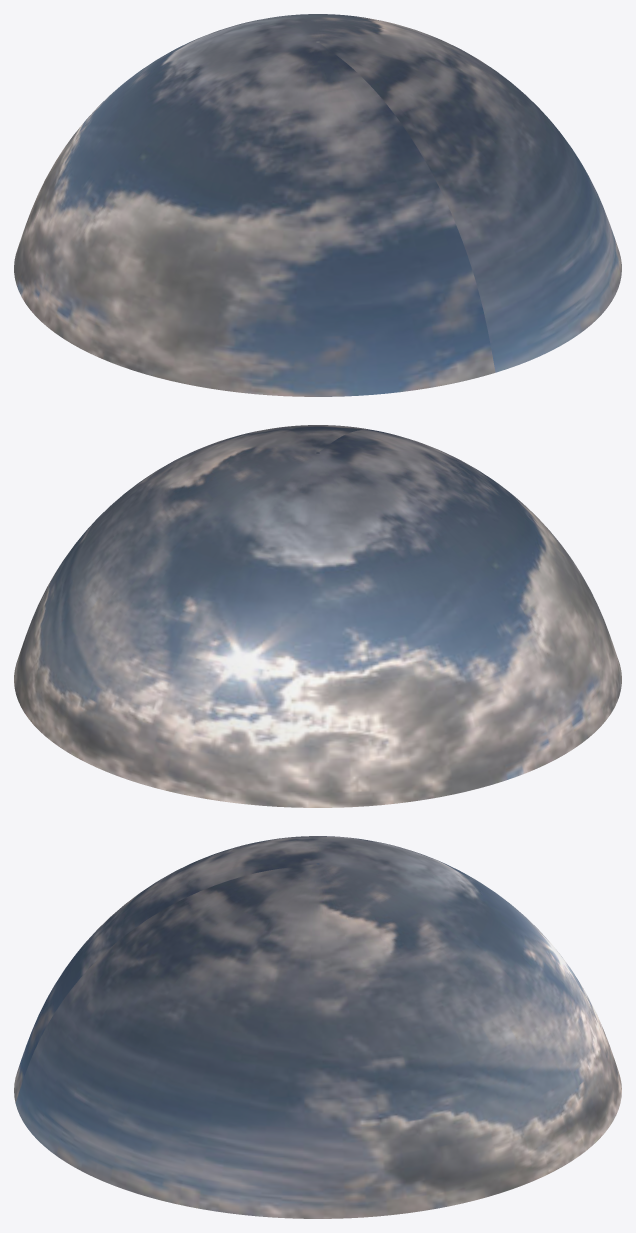
The model's file is postwar_city_usdz_blender.glb.
3 views of the same model, one above another, from view 1: azimuth 30°, elevation 25°; view 2: azimuth 150°, elevation 25°; view 3: azimuth 270°, elevation 25° (orthographic).
Parts seen in each view (by area): view 1: Sphere; view 2: Sphere; view 3: Sphere.
Boxes of the visible parts, bbox=[...] form: Sphere: bbox=[14, 14, 621, 396]; Sphere: bbox=[14, 425, 621, 807]; Sphere: bbox=[14, 836, 621, 1218].
Size of the model in its own units: 168 by 69.07 by 168.
25 materials, 25 textured.
